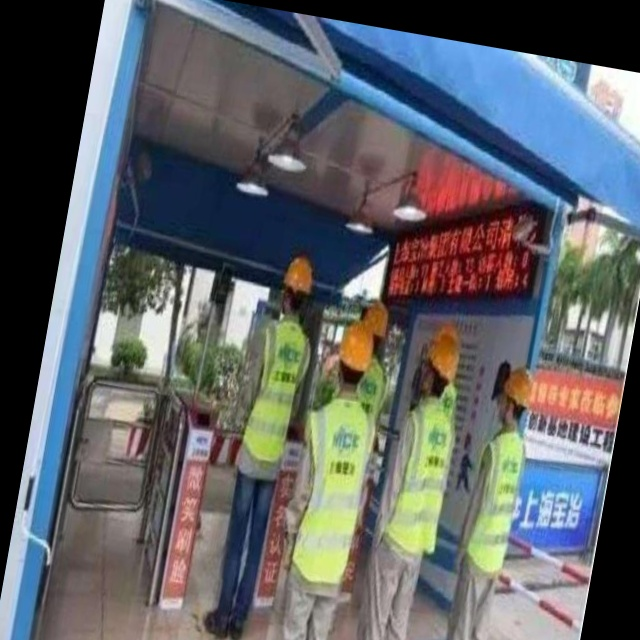Con_Chaleco: (277, 398, 382, 594), (381, 392, 463, 556), (241, 313, 317, 463), (460, 424, 532, 572)
